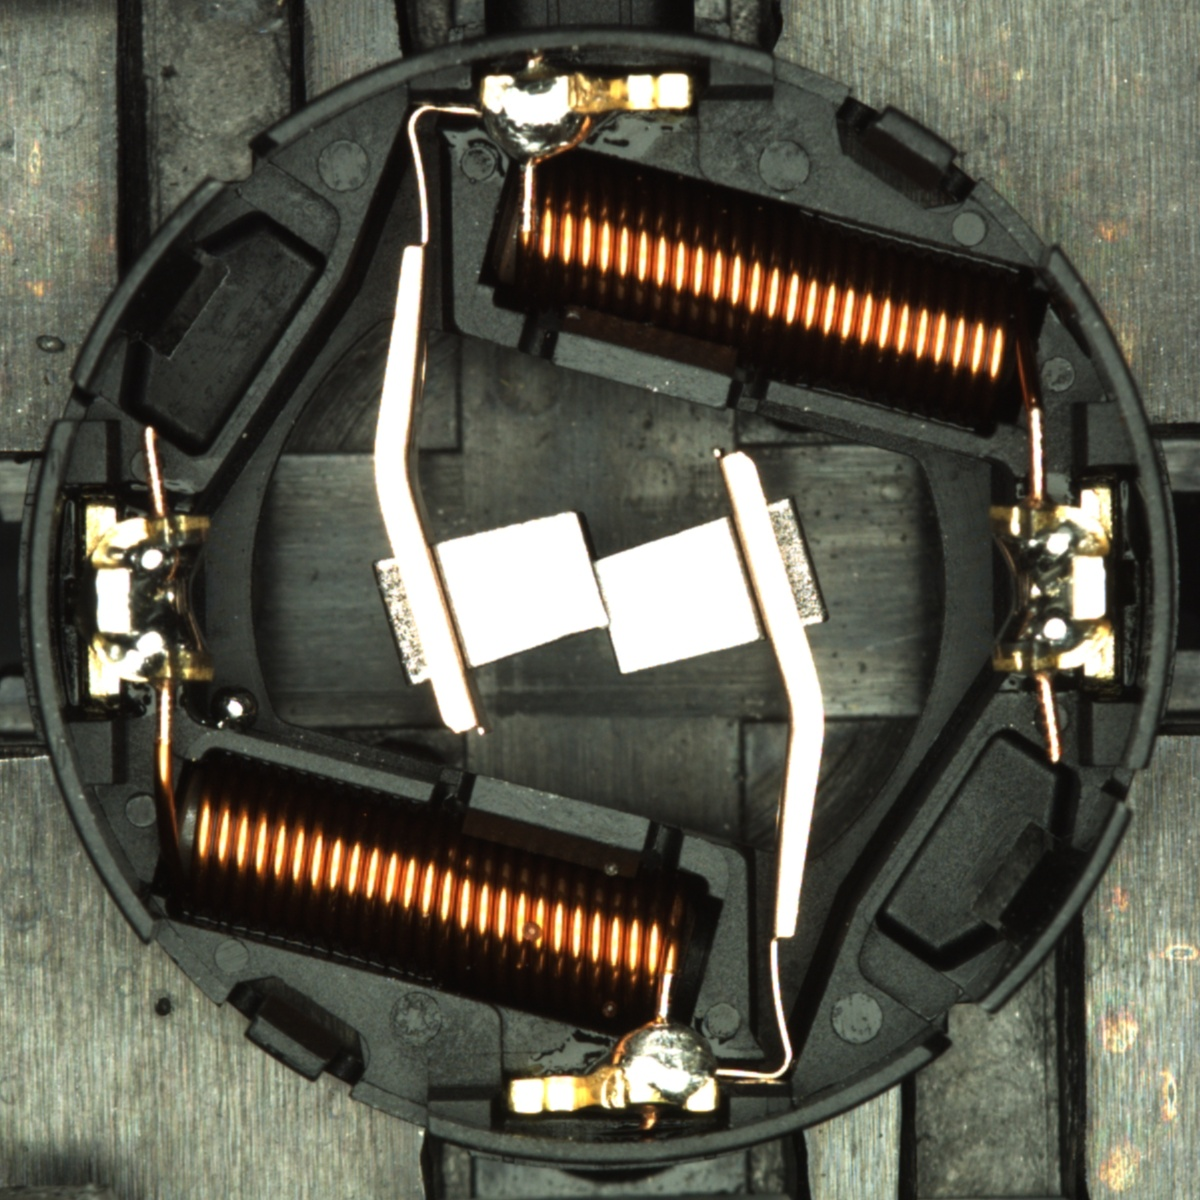1: (252, 31, 481, 255), (710, 929, 940, 1153)
2: (710, 31, 940, 255), (252, 929, 481, 1153)
3: (22, 255, 252, 480), (940, 704, 1168, 929)
4: (252, 255, 481, 480), (710, 704, 940, 929)
5: (481, 143, 710, 368), (481, 816, 710, 1041)
6: (710, 255, 940, 480), (252, 704, 481, 929)
7: (940, 255, 1168, 480), (22, 704, 252, 929)
cacbon: (392, 498, 799, 686)
chau_dien: (79, 498, 216, 698), (982, 487, 1121, 685)
hat_chi: (211, 685, 259, 733)
tay_choi: (477, 69, 697, 168), (507, 1016, 721, 1116)
thanh_de: (953, 786, 1140, 1030), (58, 164, 244, 404)
